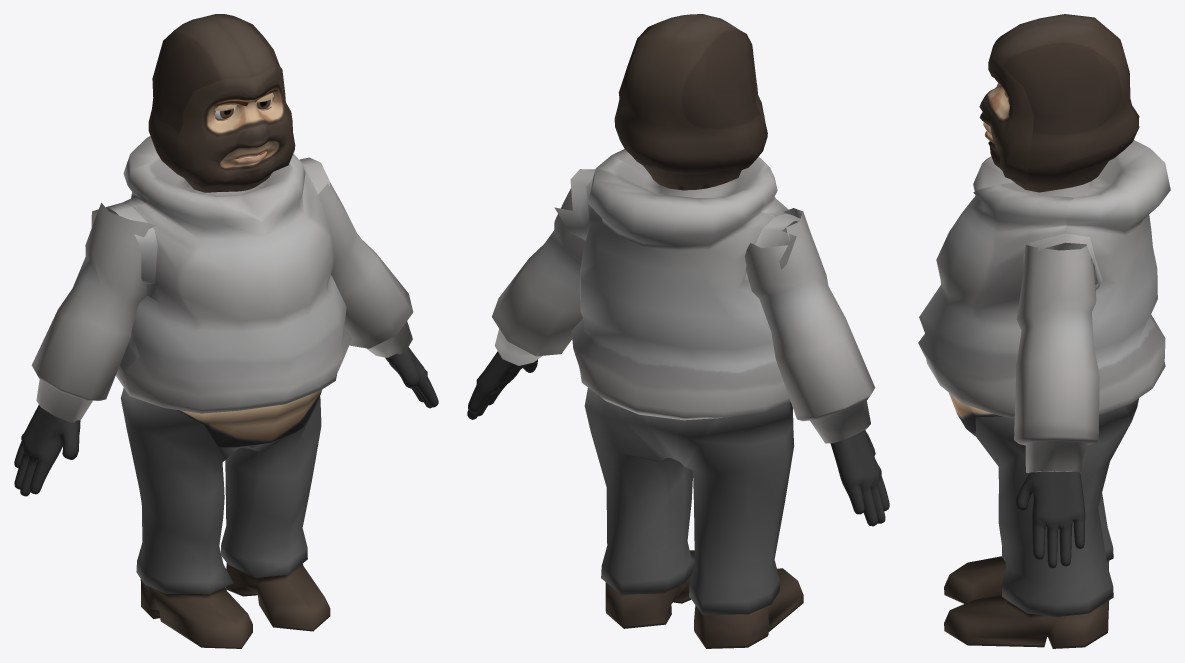
Rendered from robber.glb.
3 renders of one model, left to right at view 1: azimuth 30°, elevation 25°; view 2: azimuth 150°, elevation 25°; view 3: azimuth 270°, elevation 25°, orthographic. The views are drawn at different scales.
Parts seen in each view (by area): view 1: Cylinder.001, Circle, Cylinder.003, Cylinder.002; view 2: Cylinder.001, Circle, Cylinder.003, Cylinder.002; view 3: Cylinder.001, Circle, Cylinder.002.
Boxes of the visible parts, x1,y1,x2,y2 form: Cylinder.001: (91, 136, 351, 648); Circle: (148, 14, 295, 192); Cylinder.003: (14, 203, 155, 496); Cylinder.002: (318, 182, 438, 408); Cylinder.001: (554, 149, 803, 648); Circle: (614, 14, 767, 190); Cylinder.003: (744, 208, 889, 526); Cylinder.002: (467, 188, 585, 419); Cylinder.001: (918, 140, 1170, 648); Circle: (979, 14, 1139, 192); Cylinder.002: (1014, 245, 1099, 568).
Bounding box in the file's own units: 3.58 × 4.86 × 1.88.
Materials: 2 (2 with a texture image).
